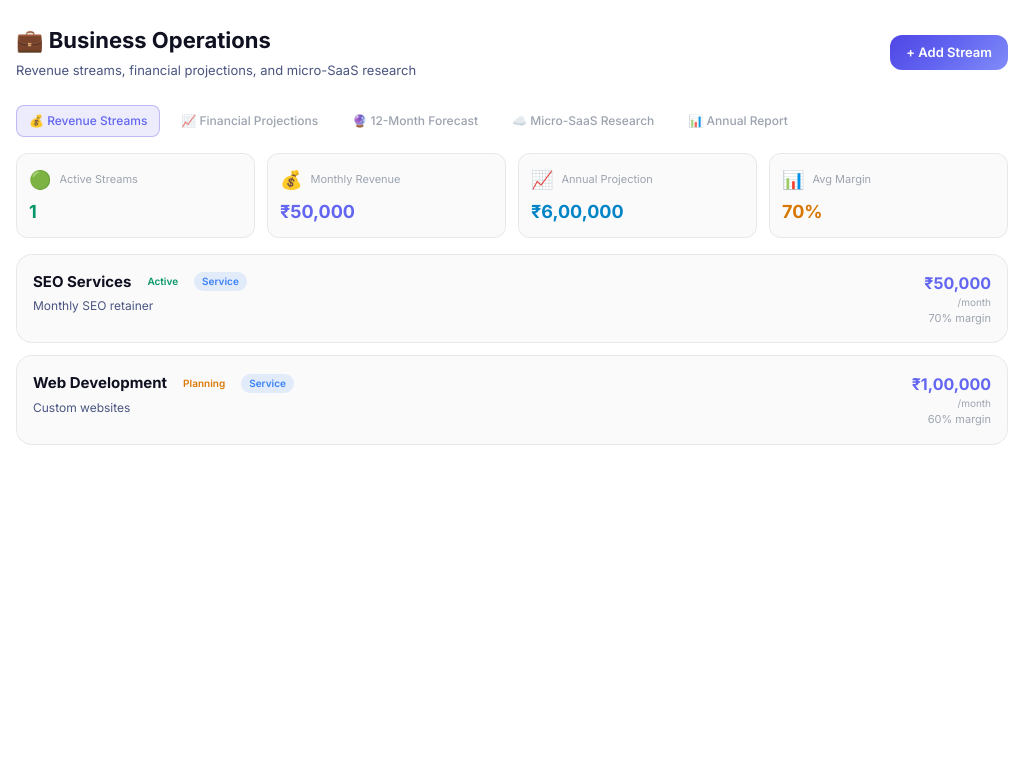
it: BusinessTab › view tab switching › switches to projections view
The image size is (1024, 768).
Click the button "📈 Financial Projections" at (250, 120), box [168,104,331,136]
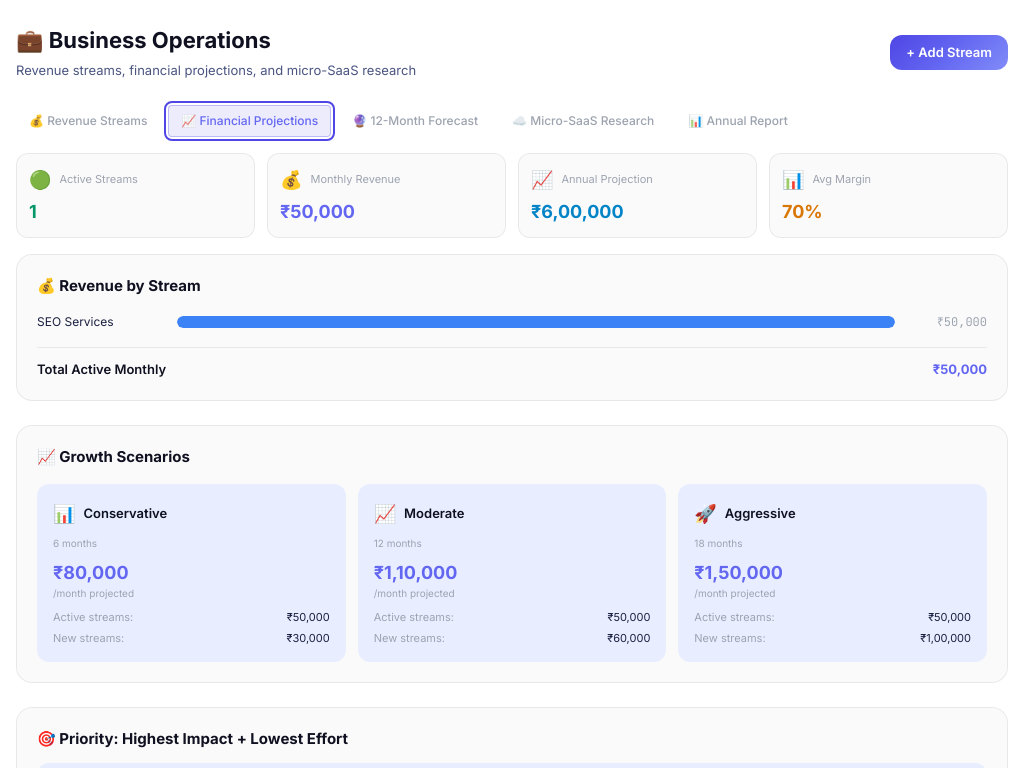
Check: the heading "💰 Revenue by Stream" is shown, box [37,276,201,294]
Check: the heading "📈 Growth Scenarios" is shown, box [37,446,190,466]
